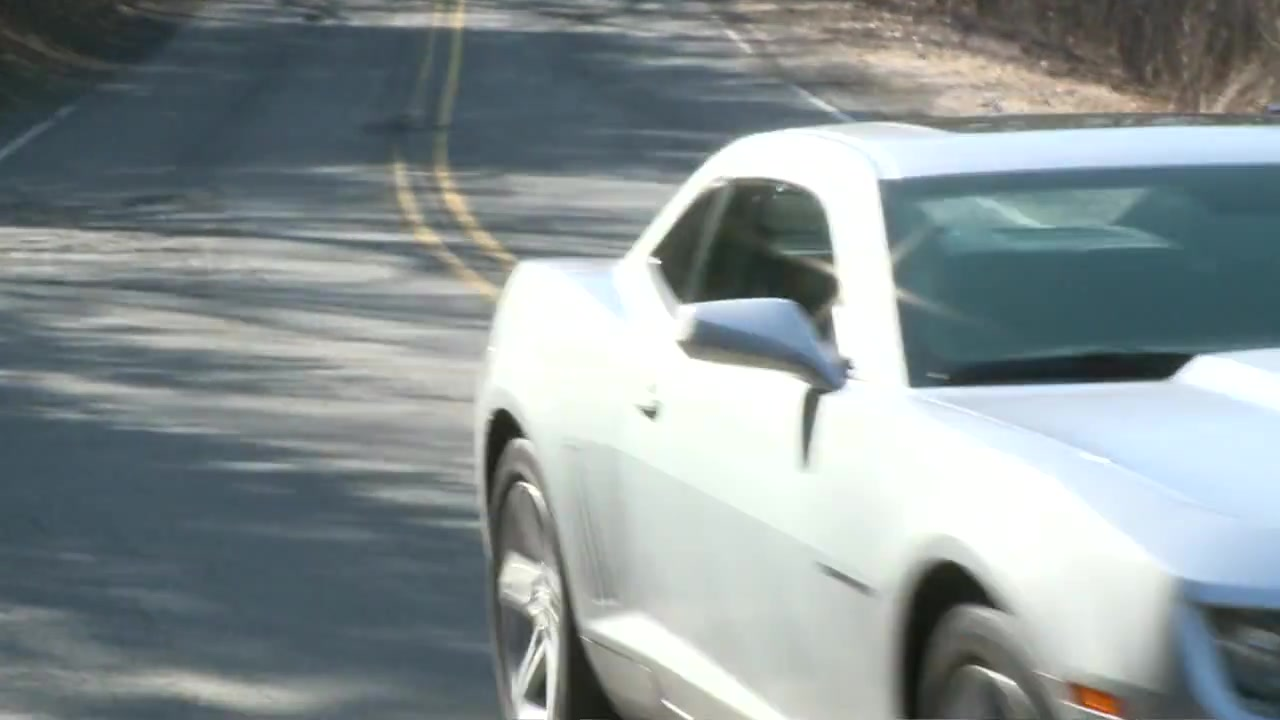car: (468, 120, 1280, 720)
